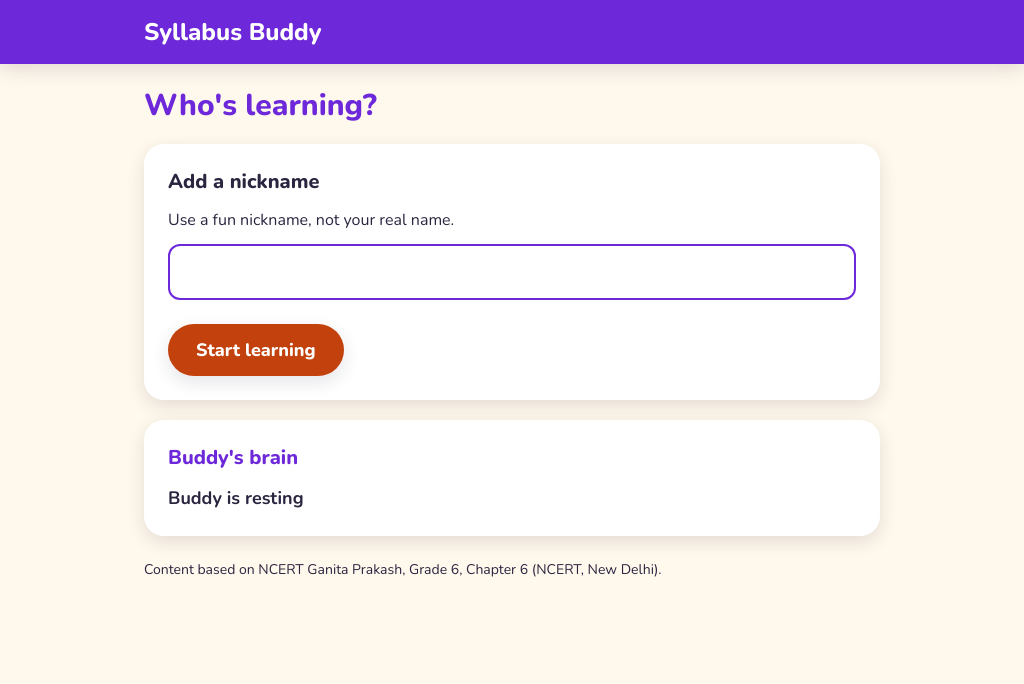
it: LearnerApp › still starts the lesson when adding a profile fails
The width and height of the screenshot is (1024, 684).
Check: the text "Progress won't be saved on this device" is not shown
In the field labelled "Add a nickname": (512, 272) [168,244,856,300], type "Riya"
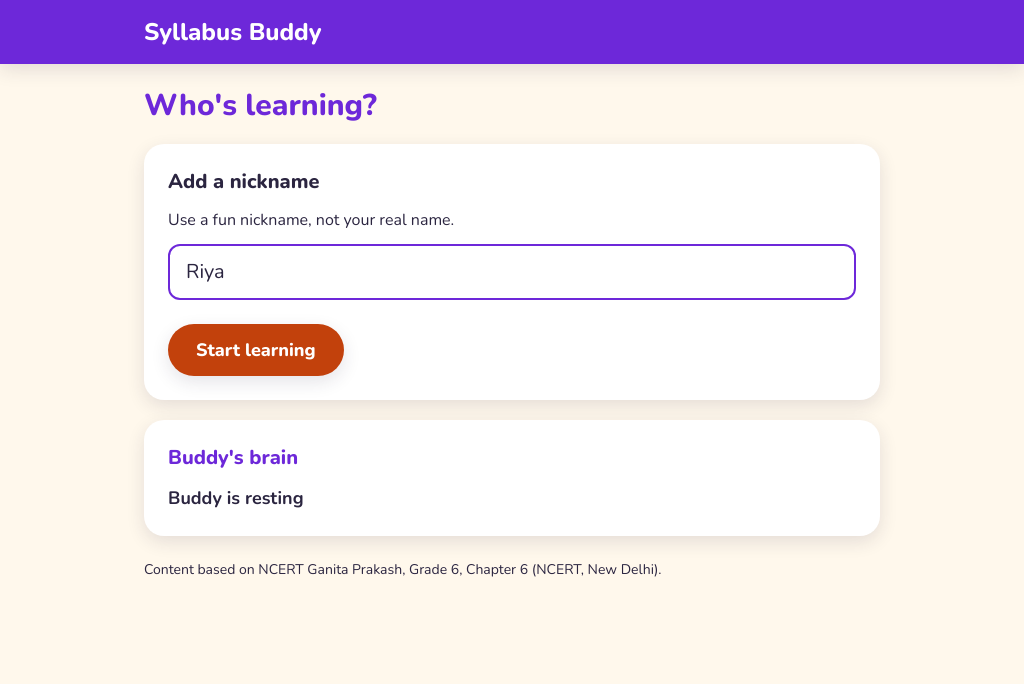
Click the button "Start learning": click(256, 350) [168,324,344,376]
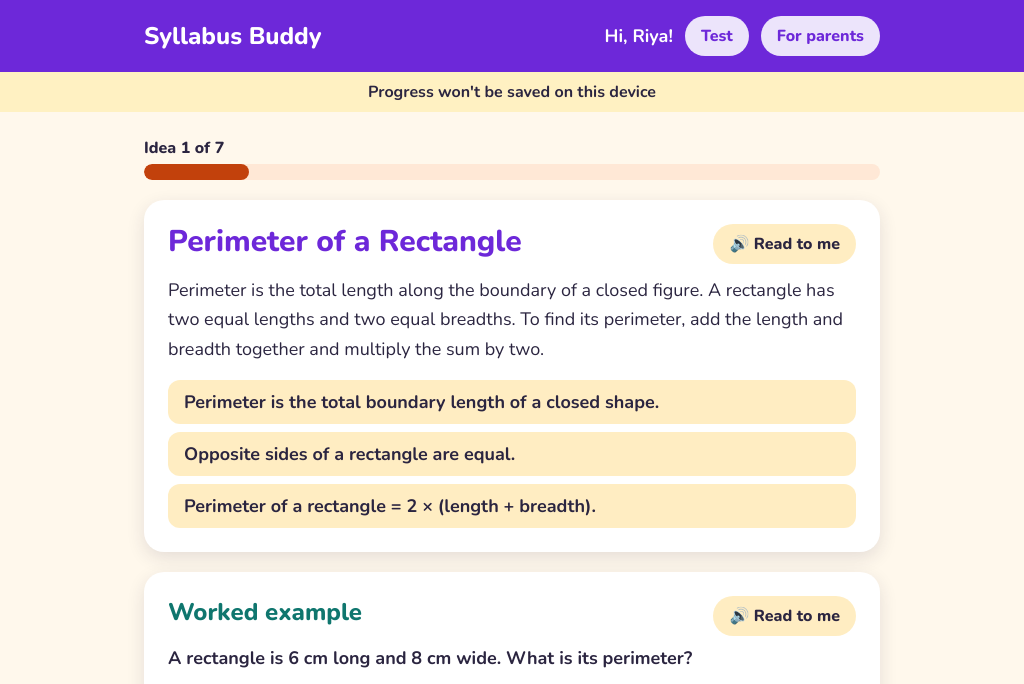
Check: the text "Idea 1 of 7" is shown, box [144,137,224,159]
Check: the text "Progress won't be saved on this device" is shown, box [0,72,1023,112]
